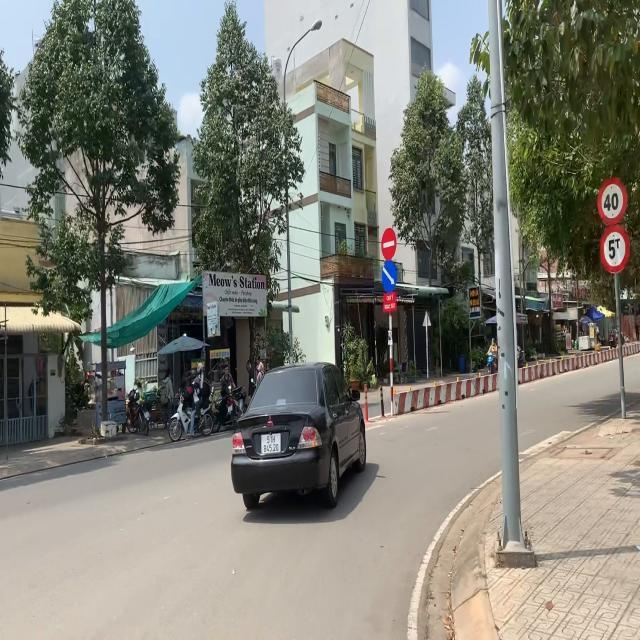bien_hieu_lenh: (599, 226, 630, 274), (598, 177, 628, 224), (380, 226, 398, 262), (381, 260, 398, 294)
